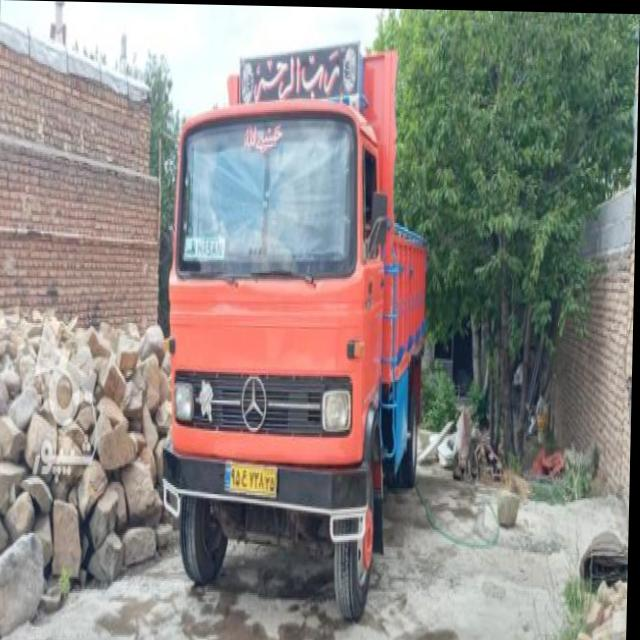licence: (224, 457, 282, 494)
